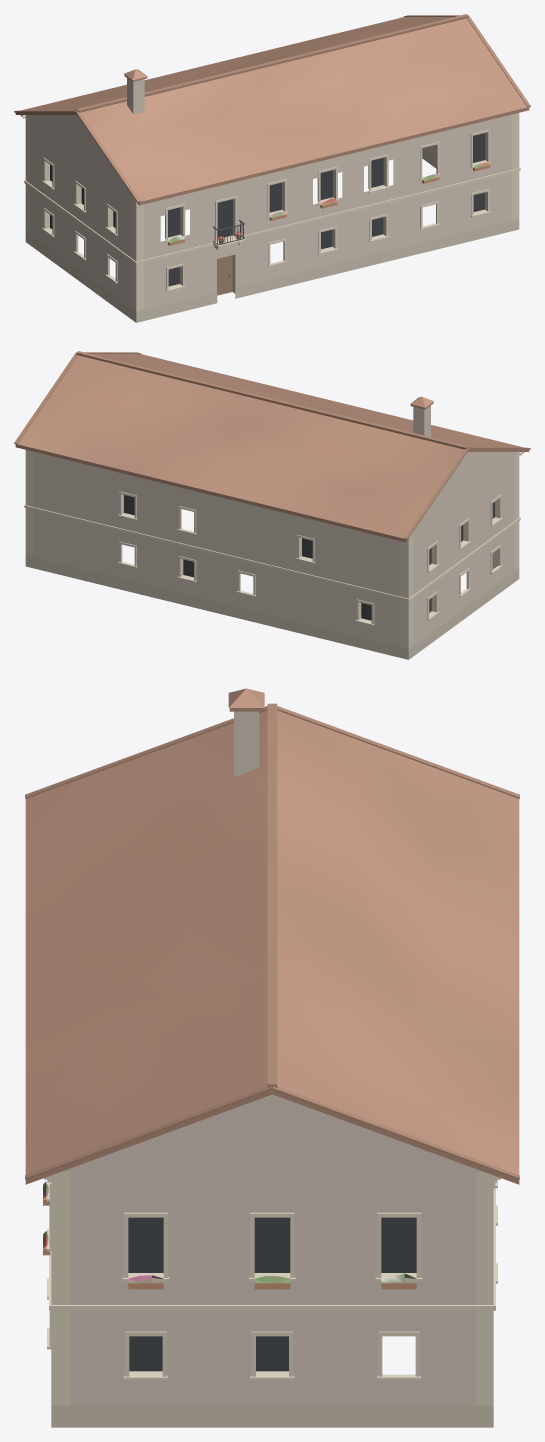
The model's file is SM_BM_BE_1_Villa.glb.
3 views of the same model, one above another, from view 1: azimuth 30°, elevation 25°; view 2: azimuth 150°, elevation 25°; view 3: azimuth 270°, elevation 25° (orthographic). The views are drawn at different scales.
Parts seen in each view (by area): view 1: SM_BM_BE_1_Villa; view 2: SM_BM_BE_1_Villa; view 3: SM_BM_BE_1_Villa.
Boxes of the visible parts, x1=… form: SM_BM_BE_1_Villa: x1=14, y1=14, x2=530, y2=322; SM_BM_BE_1_Villa: x1=14, y1=351, x2=530, y2=659; SM_BM_BE_1_Villa: x1=25, y1=688, x2=519, y2=1427.
Size of the model in its own units: 24.64 by 12.35 by 13.43.
